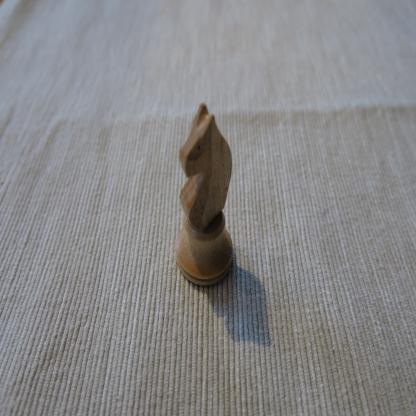white-knight: (175, 101, 234, 288)
